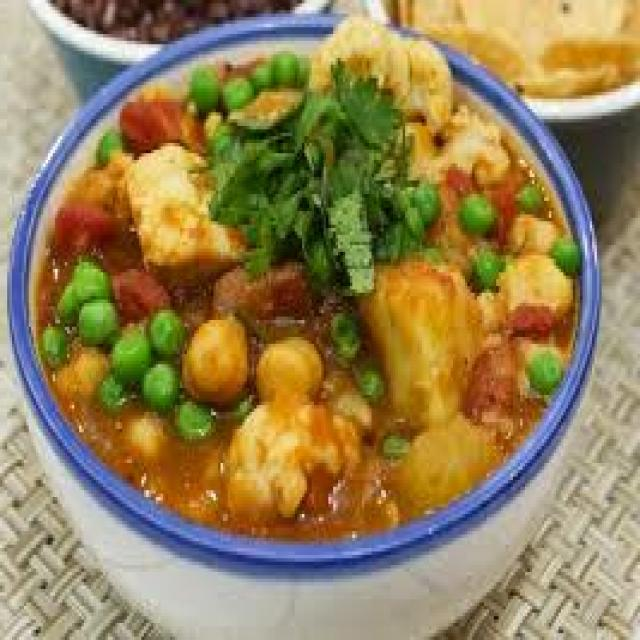Aloo Gobi: (87, 51, 518, 532)
